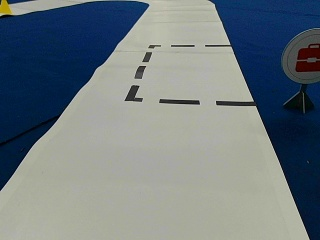company: (281, 27, 319, 83)
